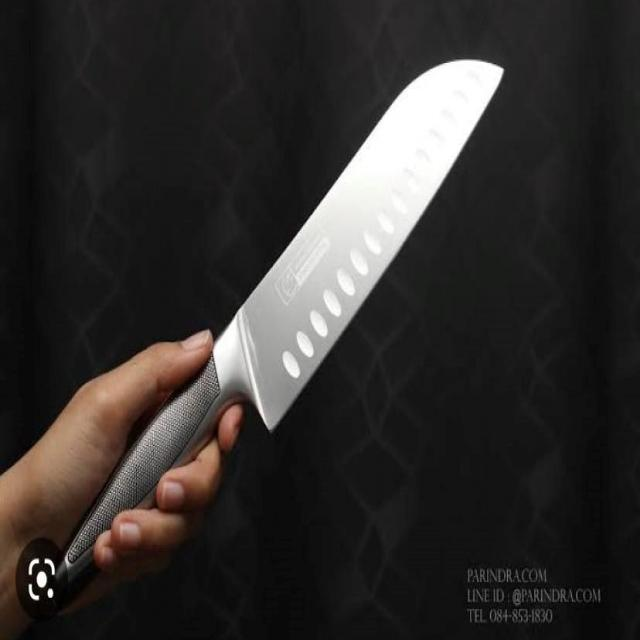Knife: (86, 57, 504, 545)
